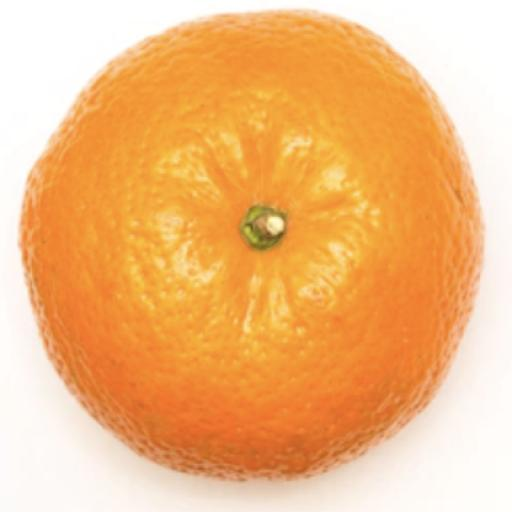orange: (21, 12, 482, 479)
